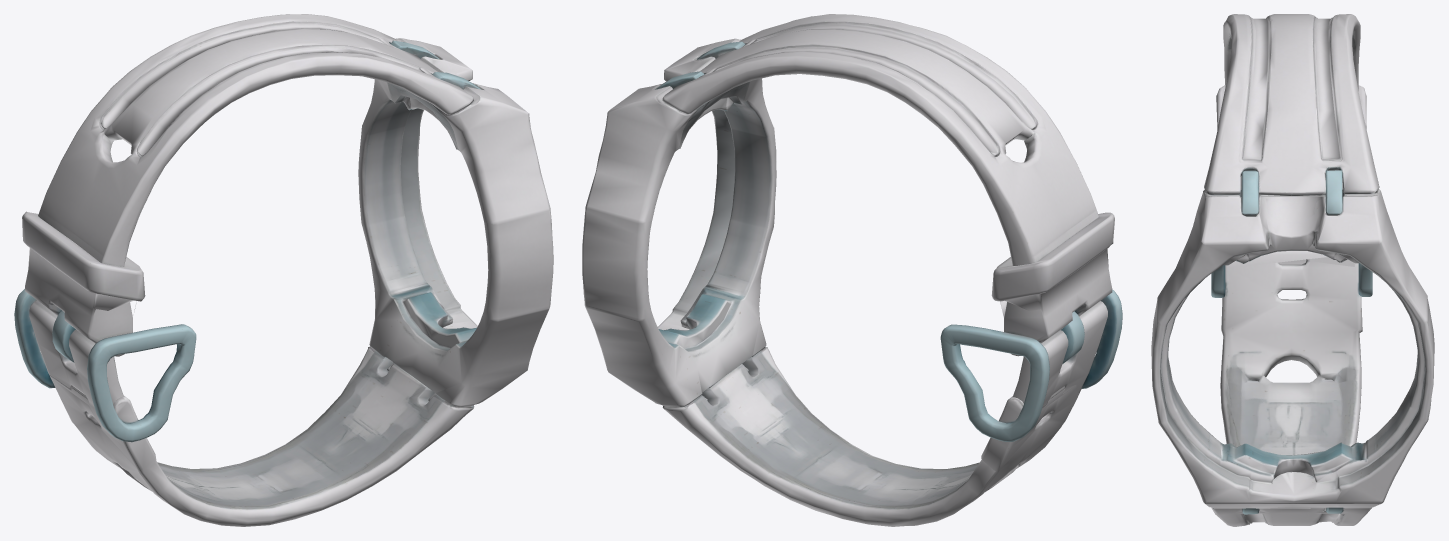
Rendered from custom-strap.glb.
3 renders of one model, left to right at view 1: azimuth 30°, elevation 25°; view 2: azimuth 150°, elevation 25°; view 3: azimuth 270°, elevation 25°, orthographic.
Visible parts, largest first — view 1: tripo_node_3c188f24-04df-4f25-aff4-cbc5aa54fbd2; view 2: tripo_node_3c188f24-04df-4f25-aff4-cbc5aa54fbd2; view 3: tripo_node_3c188f24-04df-4f25-aff4-cbc5aa54fbd2.
Boxes of the visible parts, x1,y1,x2,y2 form: tripo_node_3c188f24-04df-4f25-aff4-cbc5aa54fbd2: (14, 14, 553, 526); tripo_node_3c188f24-04df-4f25-aff4-cbc5aa54fbd2: (582, 14, 1122, 526); tripo_node_3c188f24-04df-4f25-aff4-cbc5aa54fbd2: (1151, 14, 1434, 526).
Bounding box in the file's own units: 0.9746 × 0.9863 × 0.5449.
1 material, 1 textured.
